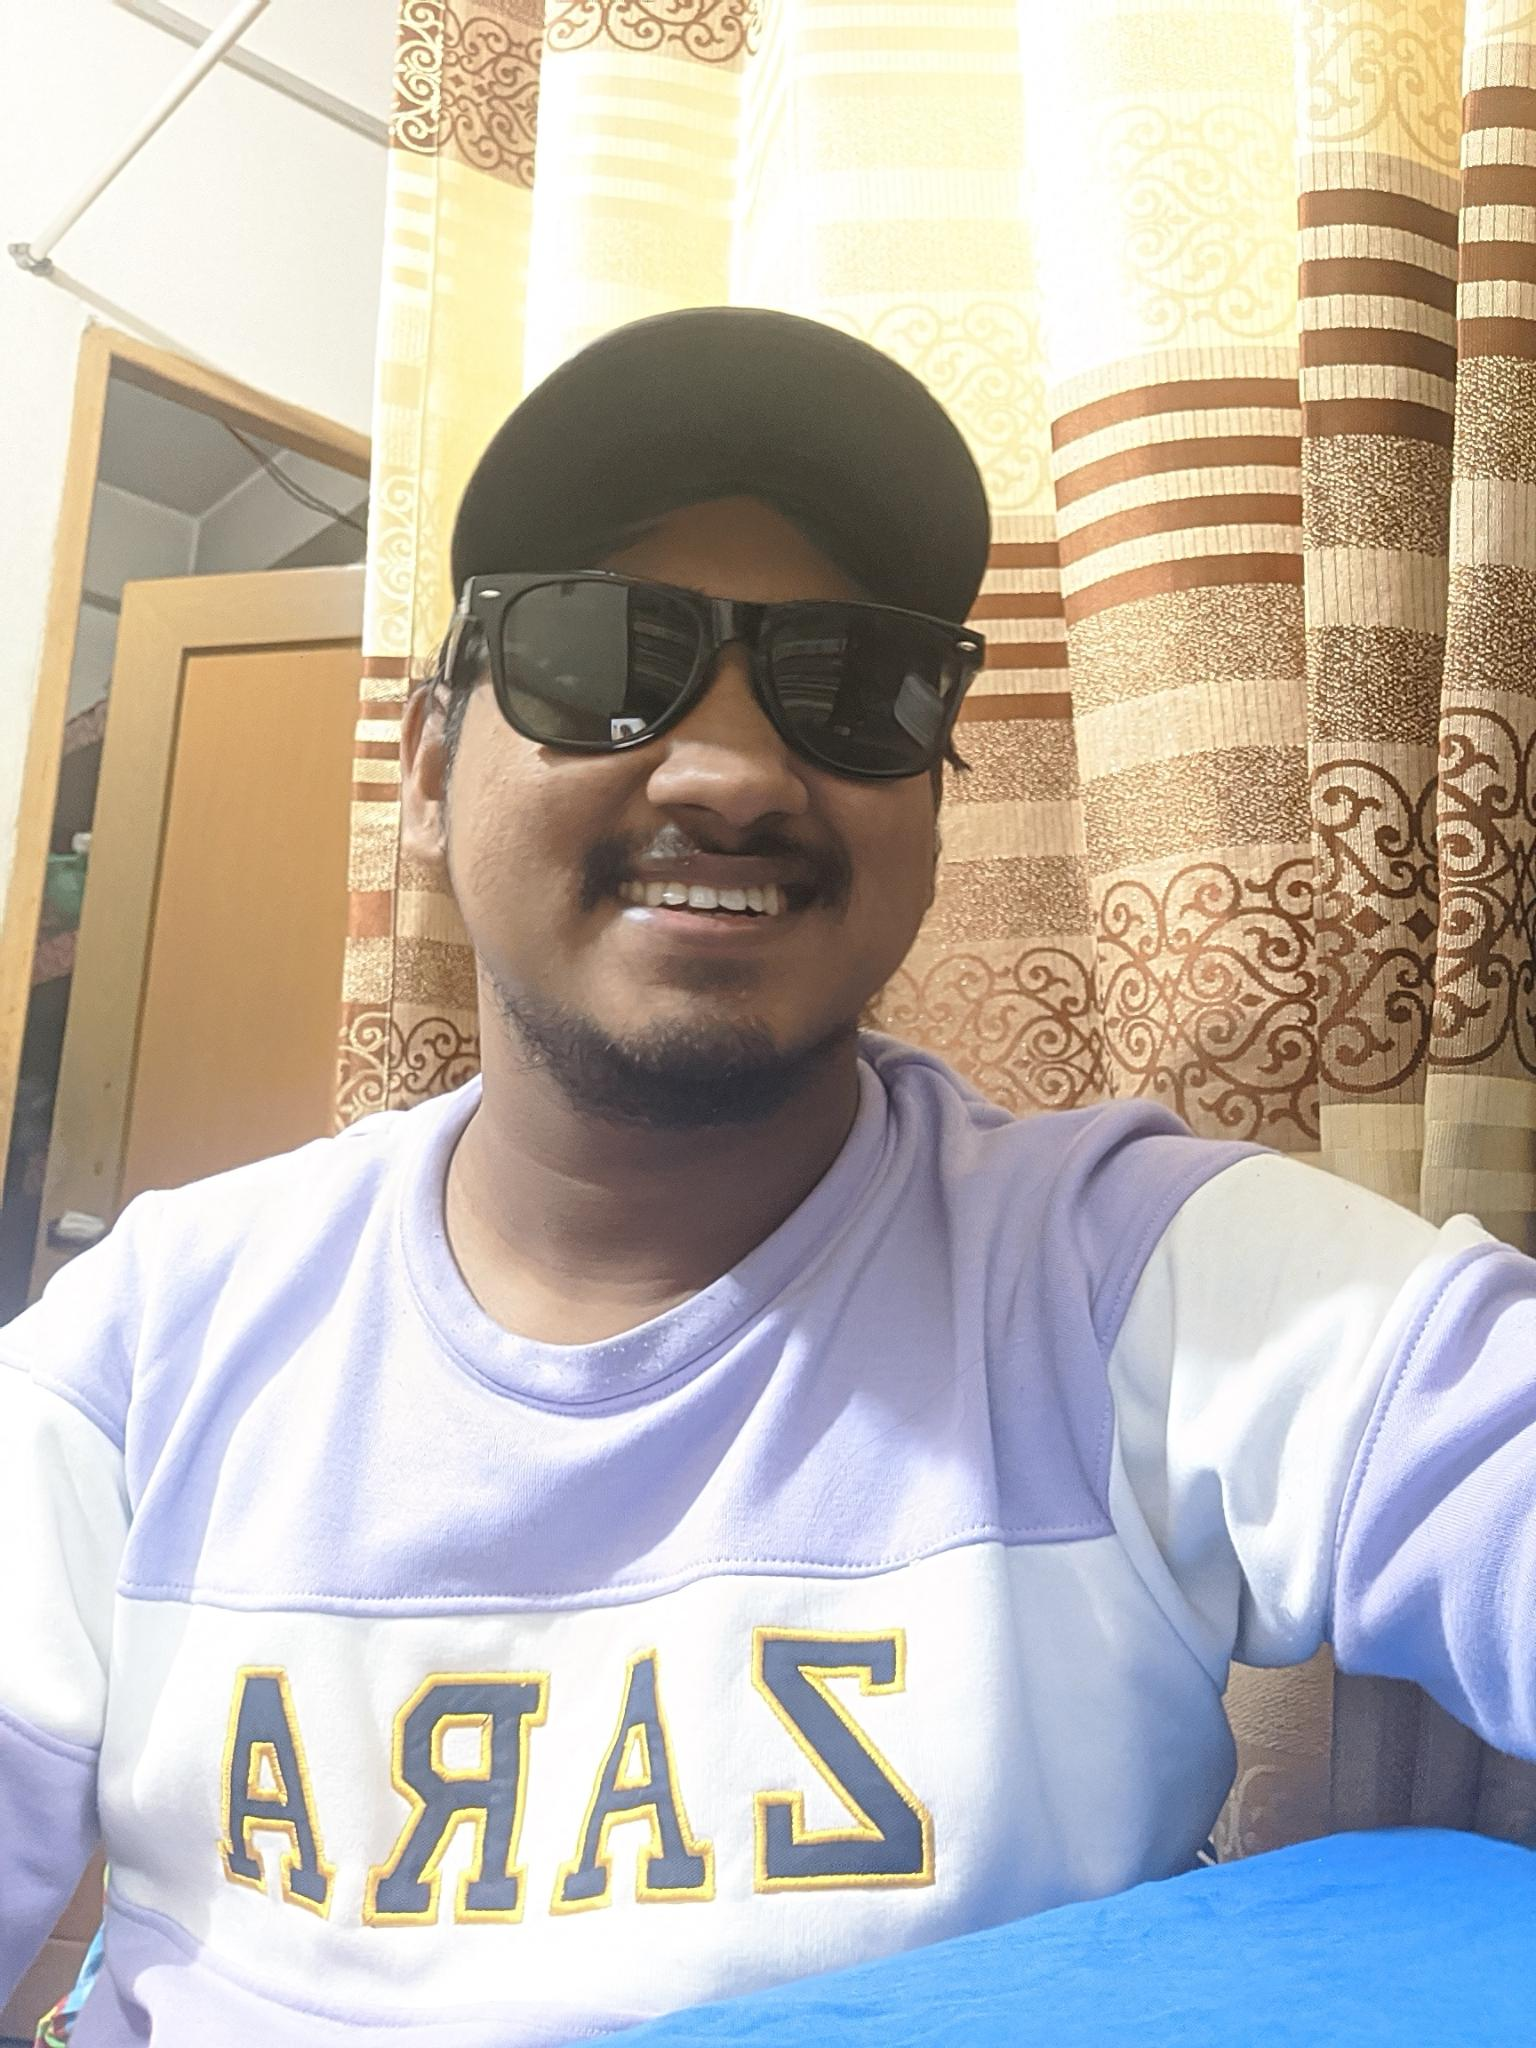Happy: (474, 556, 945, 1051)
